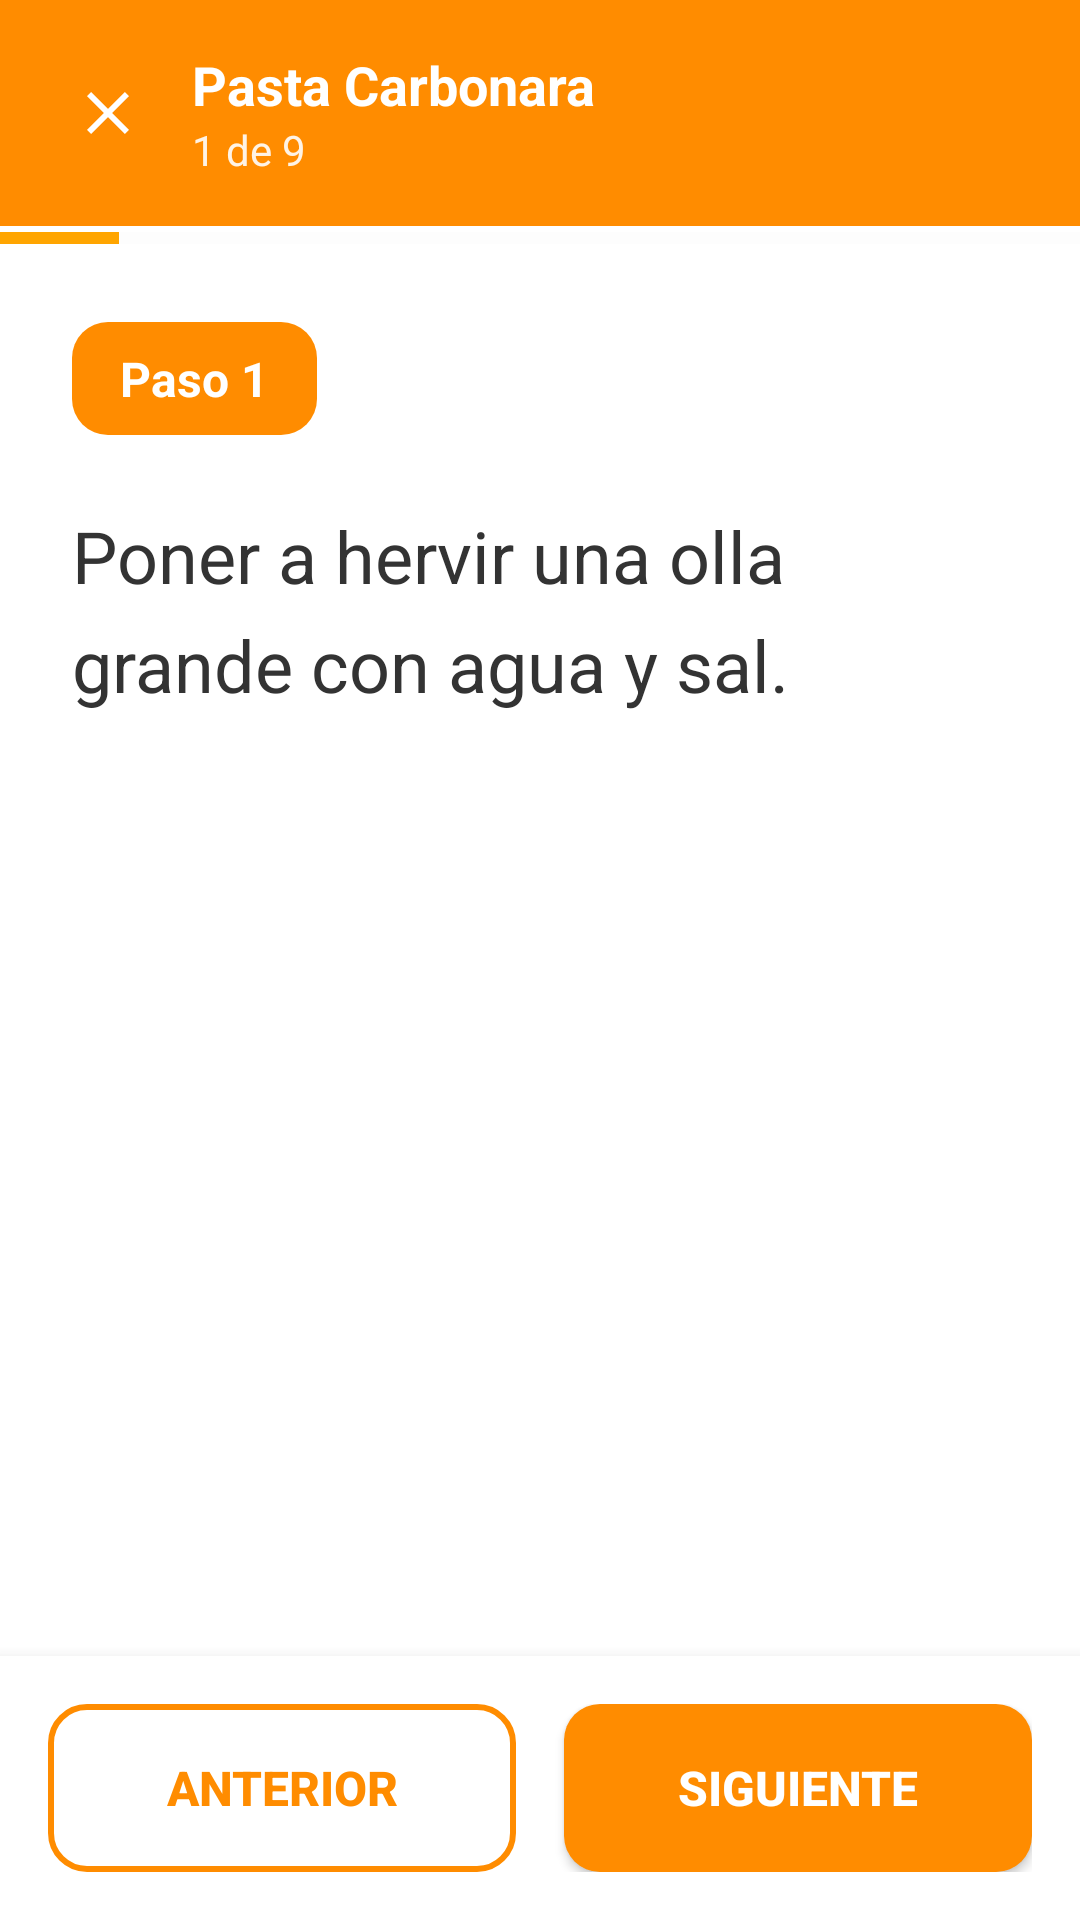

Icon bounding boxes for this 1080 × 1920 phone screenshot, format (x1, y1, x2, y2):
close: (87, 92, 129, 134)
